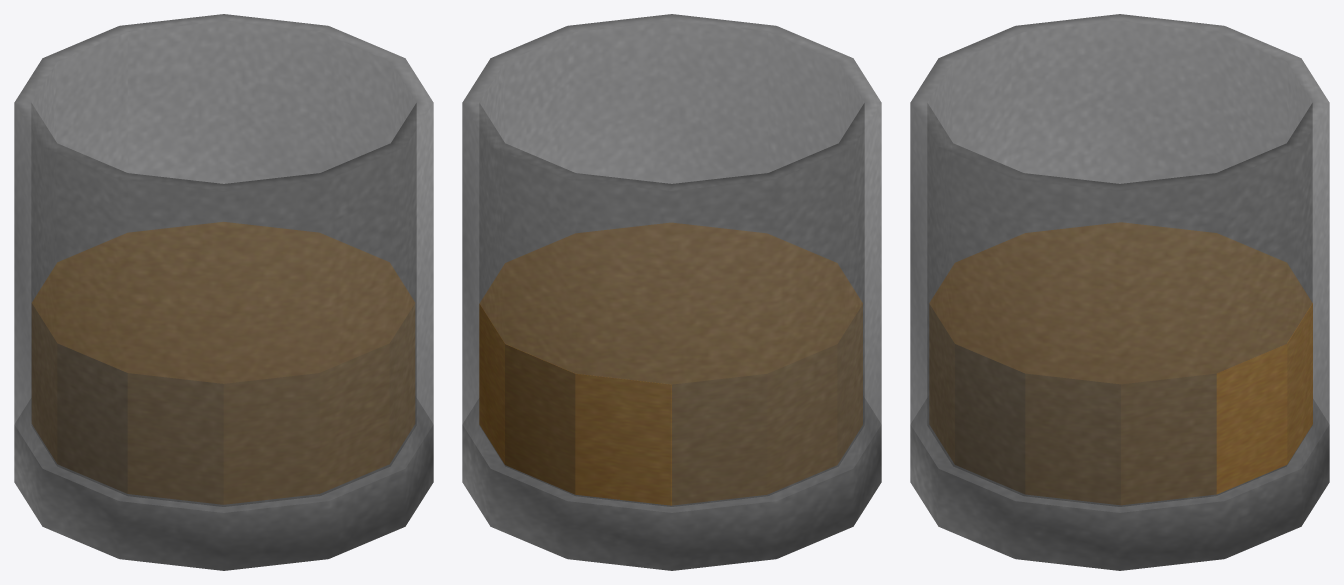
Rendered from glass_of_beer.glb.
3 renders of one model, left to right at view 1: azimuth 30°, elevation 25°; view 2: azimuth 150°, elevation 25°; view 3: azimuth 270°, elevation 25°, orthographic.
Visible parts, largest first — view 1: glass of beer; view 2: glass of beer; view 3: glass of beer.
Part boxes in pixels (x1,y1,x2,y2): glass of beer: (14, 14, 433, 570); glass of beer: (462, 14, 881, 570); glass of beer: (910, 14, 1329, 570).
Bounding box in the file's own units: 0.0989 × 0.0989 × 0.0989.
3 materials, 3 textured.
